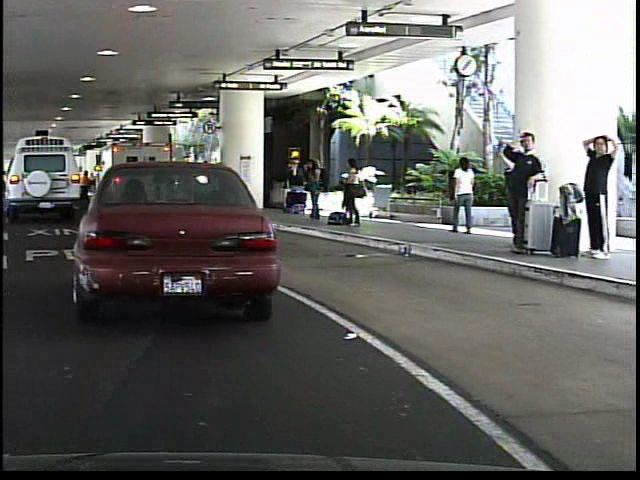person: (497, 125, 543, 255), (576, 124, 612, 262), (442, 154, 482, 235), (336, 156, 363, 228)
